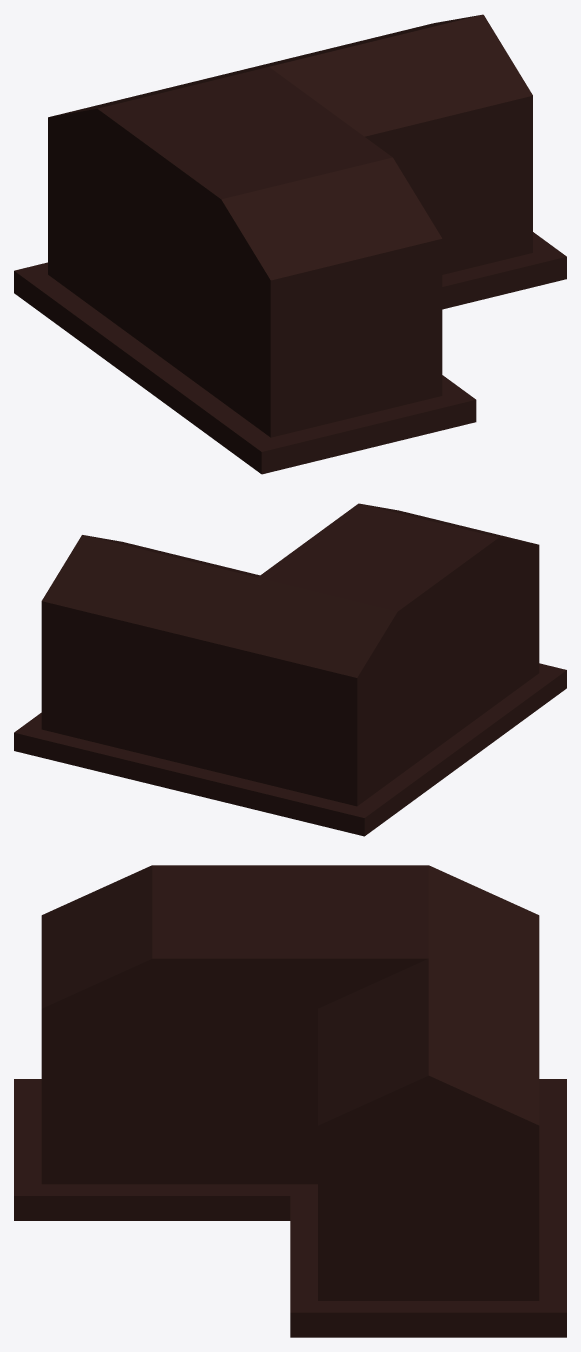
The model's file is Inn.glb.
3 views of the same model, one above another, from view 1: azimuth 30°, elevation 25°; view 2: azimuth 150°, elevation 25°; view 3: azimuth 270°, elevation 25° (orthographic). The views are drawn at different scales.
Parts seen in each view (by area): view 1: 3Inn; view 2: 3Inn; view 3: 3Inn.
Part boxes in pixels (box(x1,y1,x2,y2)): 3Inn: box(14, 14, 566, 474); 3Inn: box(14, 503, 566, 836); 3Inn: box(14, 865, 566, 1337).
Bounding box in the file's own units: 2 × 1 × 2.
